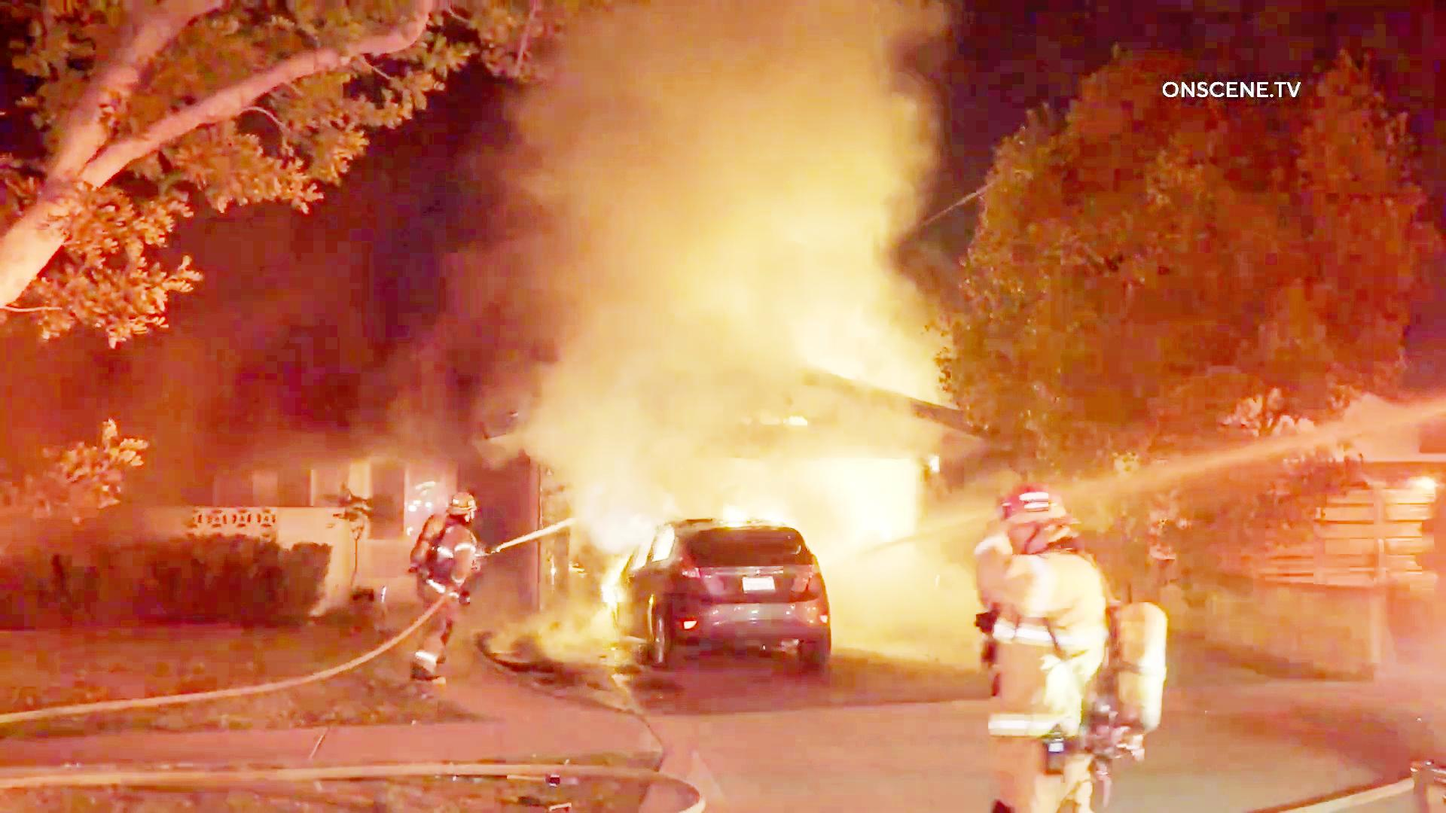fire: (701, 475, 838, 539), (584, 567, 624, 619)
smoke: (418, 140, 909, 440), (599, 8, 959, 150), (167, 332, 335, 434)
